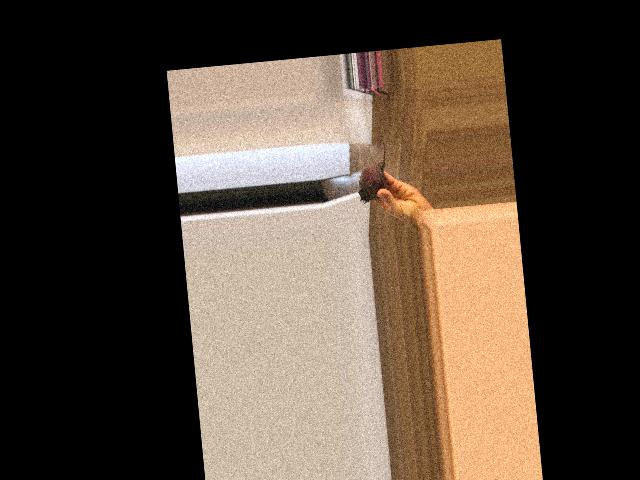beet: (353, 135, 390, 202)
